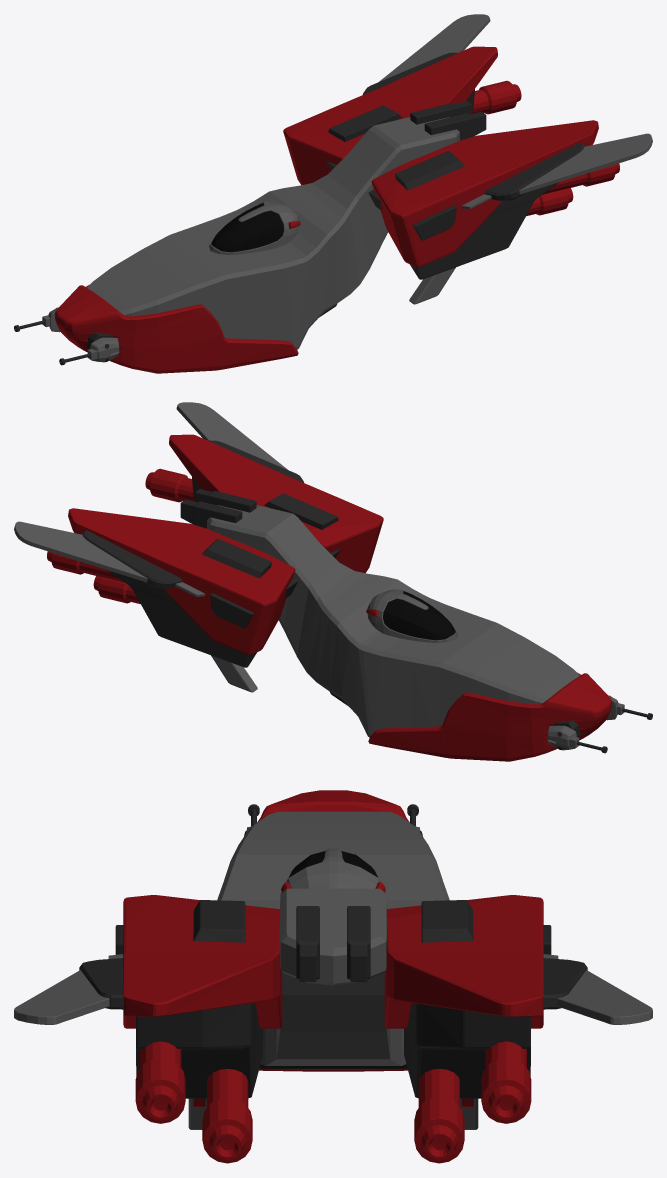
The model's file is fga_fregate4_r.glb.
3 renders of one model, top to bottom at view 1: azimuth 30°, elevation 25°; view 2: azimuth 150°, elevation 25°; view 3: azimuth 270°, elevation 25°, orthographic. The views are drawn at different scales.
Visible parts, largest first — view 1: Frigate_4; view 2: Frigate_4; view 3: Frigate_4.
Part boxes in pixels (x1,y1,x2,y2): Frigate_4: [14, 14, 652, 373]; Frigate_4: [14, 402, 652, 761]; Frigate_4: [14, 790, 652, 1163].
Size of the model in its own units: 4342 by 1426 by 2574.
1 material, 1 textured.
